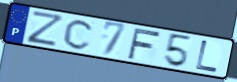5: (162, 32, 194, 68)
7: (98, 20, 127, 60)
C: (62, 18, 96, 51)
F: (126, 26, 163, 60)
L: (194, 39, 220, 74)
Z: (26, 9, 67, 48)
